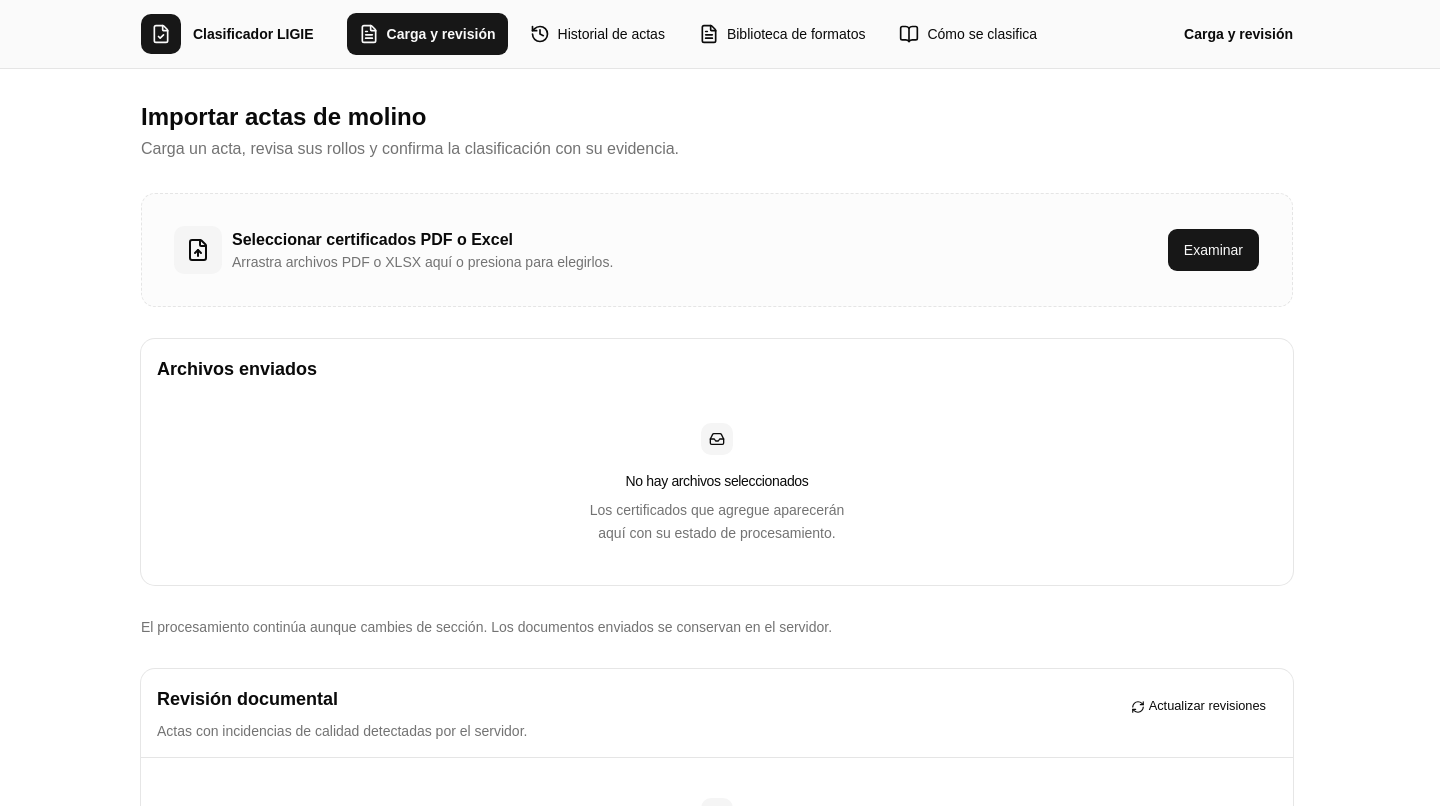
Test: Datos extraídos sin verificación local › opens an acta and roll with only the three data columns even when verification exists
Click the button "Historial de actas".
click(597, 34)  # box [516,12,678,56]
(page scrolled)
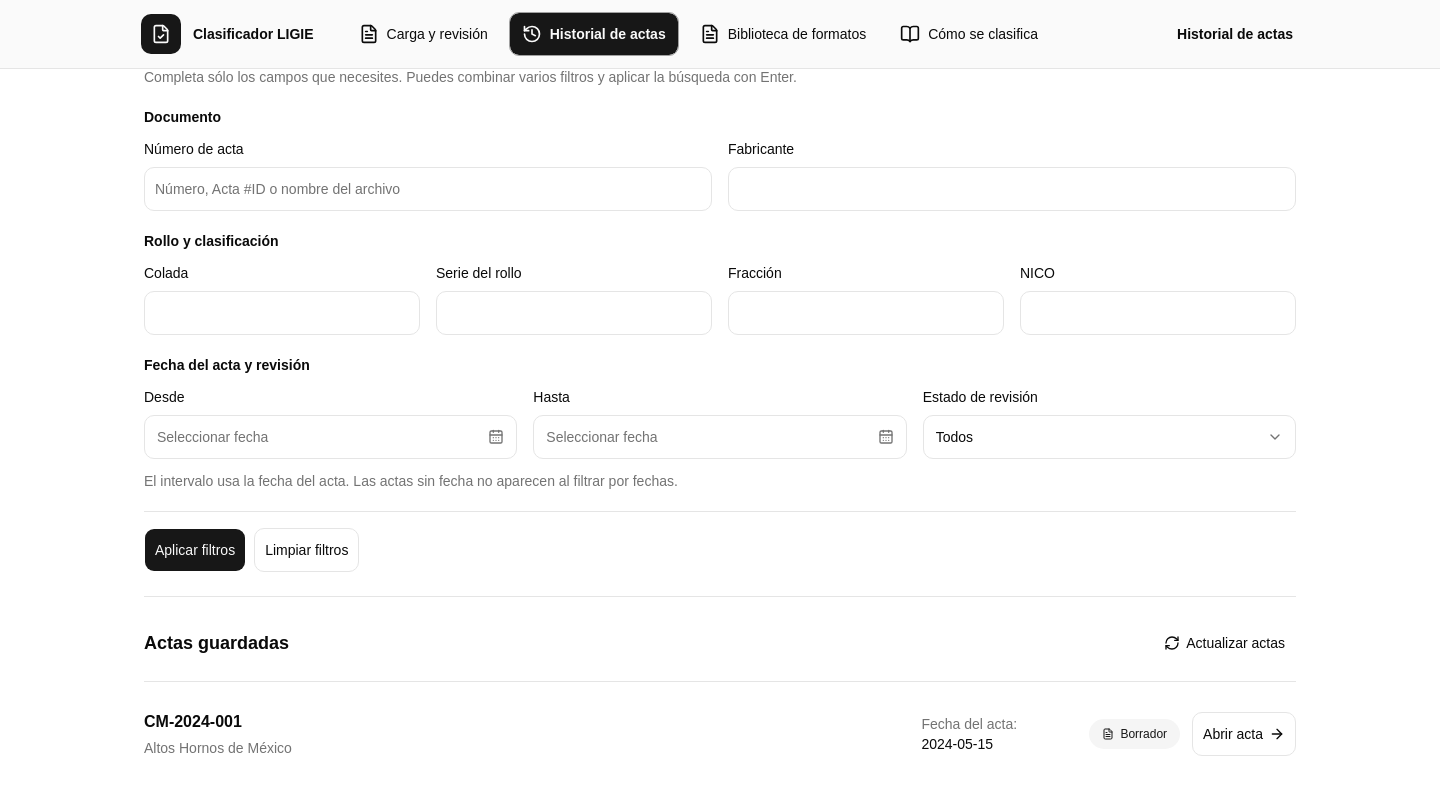
Click the button "Abrir acta".
click(1244, 734)  # box [1192,712,1296,756]
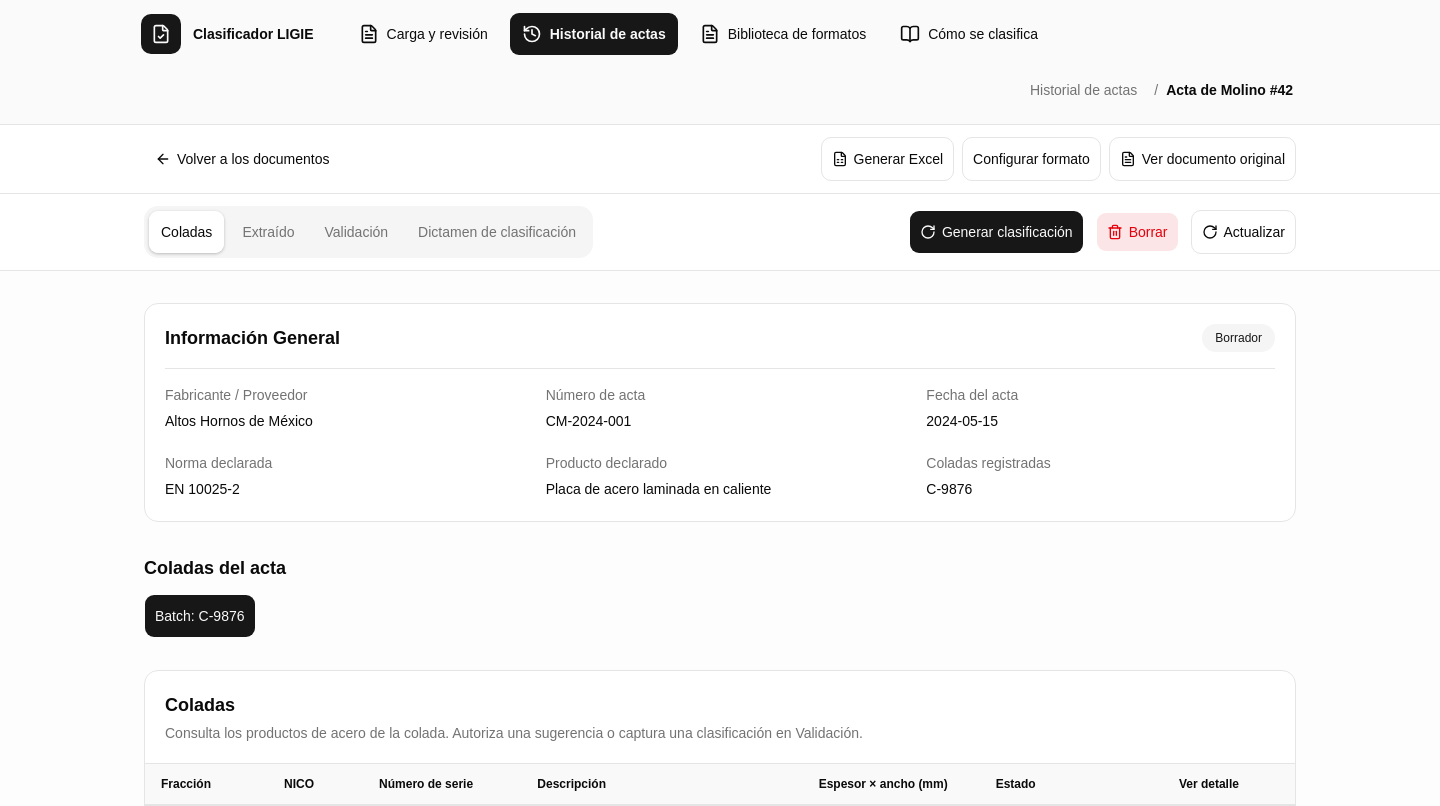
Now the heading "Información General" is shown, box [165,324,340,352]
Click the button "Extraído".
click(268, 232)  # box [229,210,308,254]
(page scrolled)
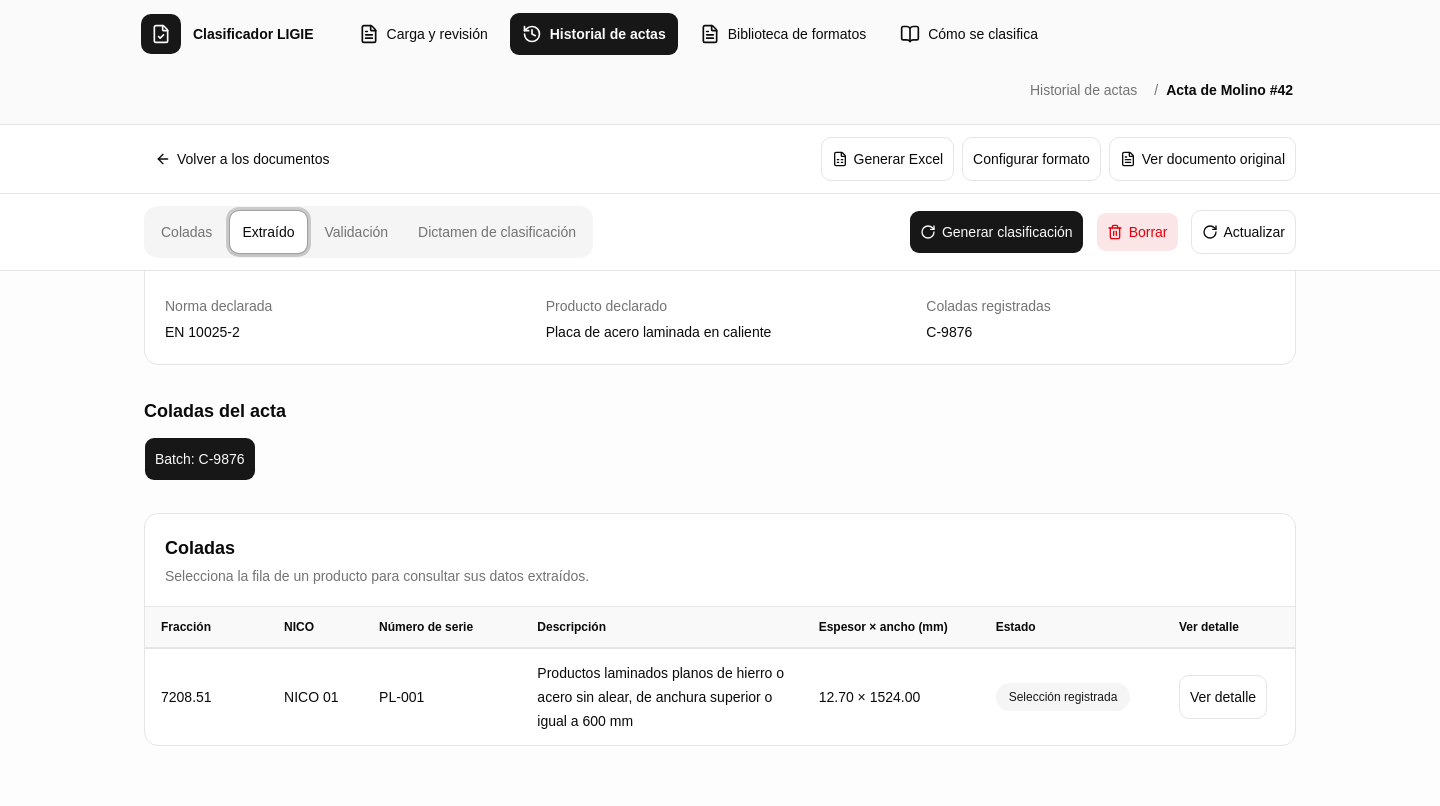
Click the button with aria-label "Ver detalle: PL-001".
click(1223, 697)  # box [1179,675,1267,719]
(page scrolled)
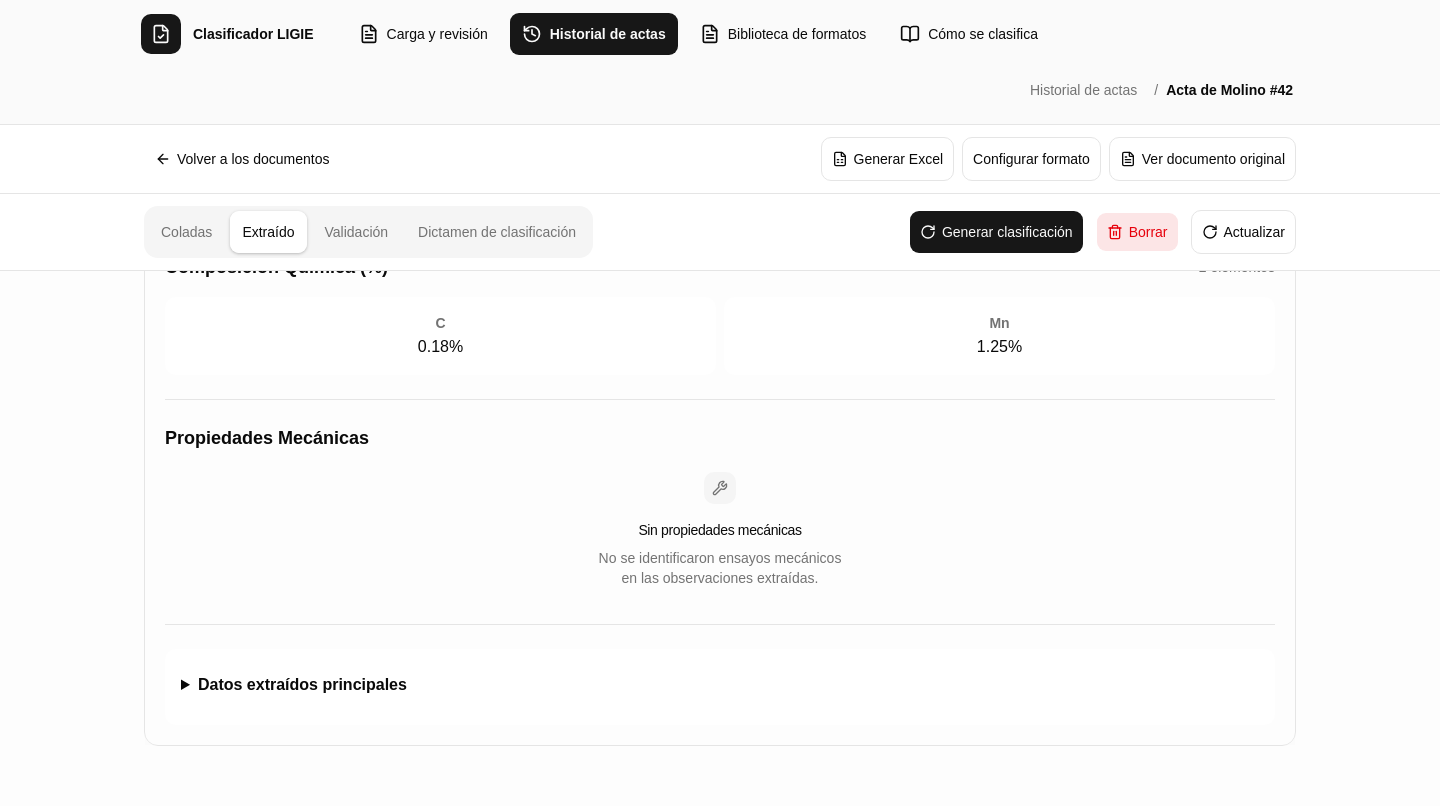
Click the heading "Datos extraídos principales".
click(302, 684)  # box [198,676,407,693]
(page scrolled)
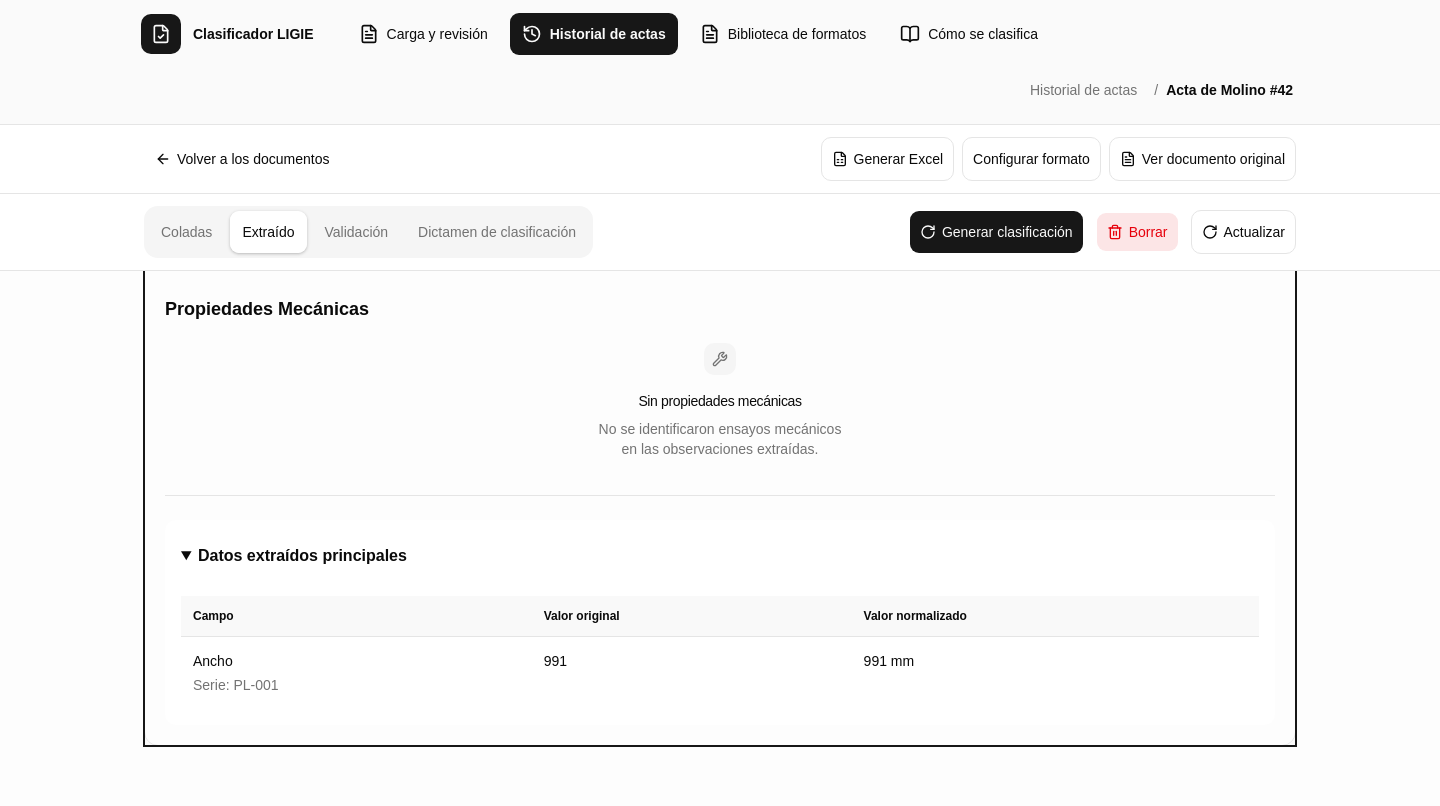
Now the column headings read "Campo", "Valor original", "Valor normalizado", in this order, box [181,596,532,636]; [532,596,852,636]; [852,596,1259,636]
Now the text "991" is shown, box [532,636,852,709]
Now the text "991 mm" is shown, box [852,636,1259,709]
